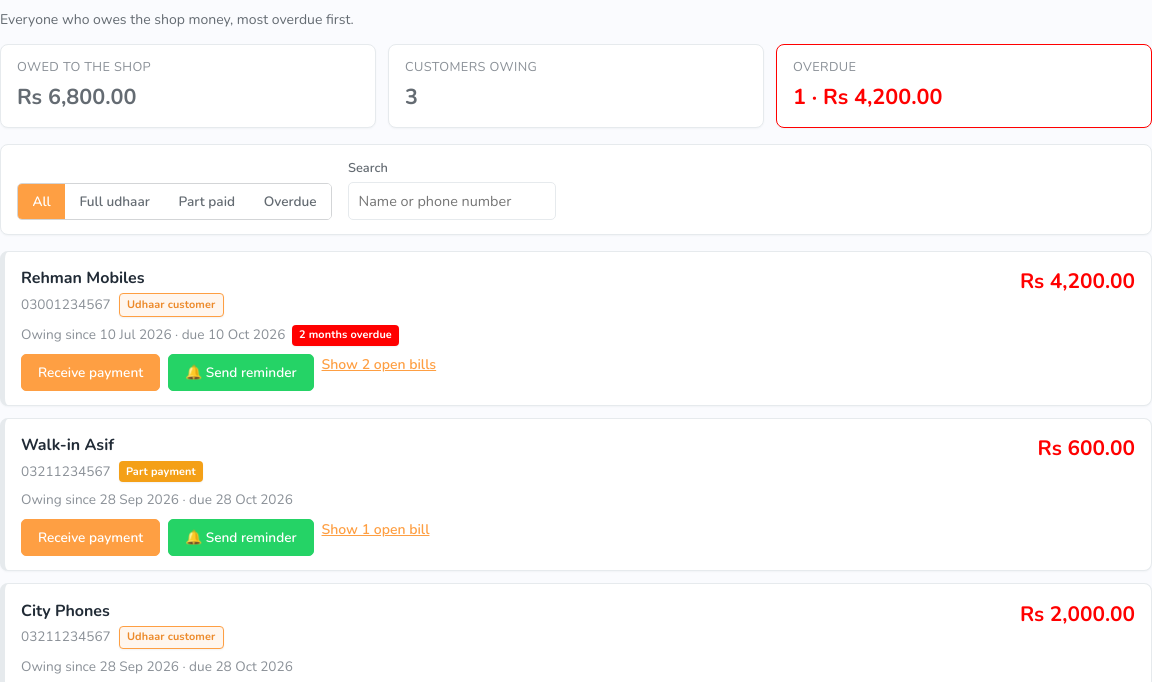
Test: the recovery page › filters to Full udhaar
Expected: the element with test id "recovery-7" is shown, [0,251,1151,406]
Click the button "Full udhaar".
click(115, 201)  # box [65,184,164,218]
(page scrolled)
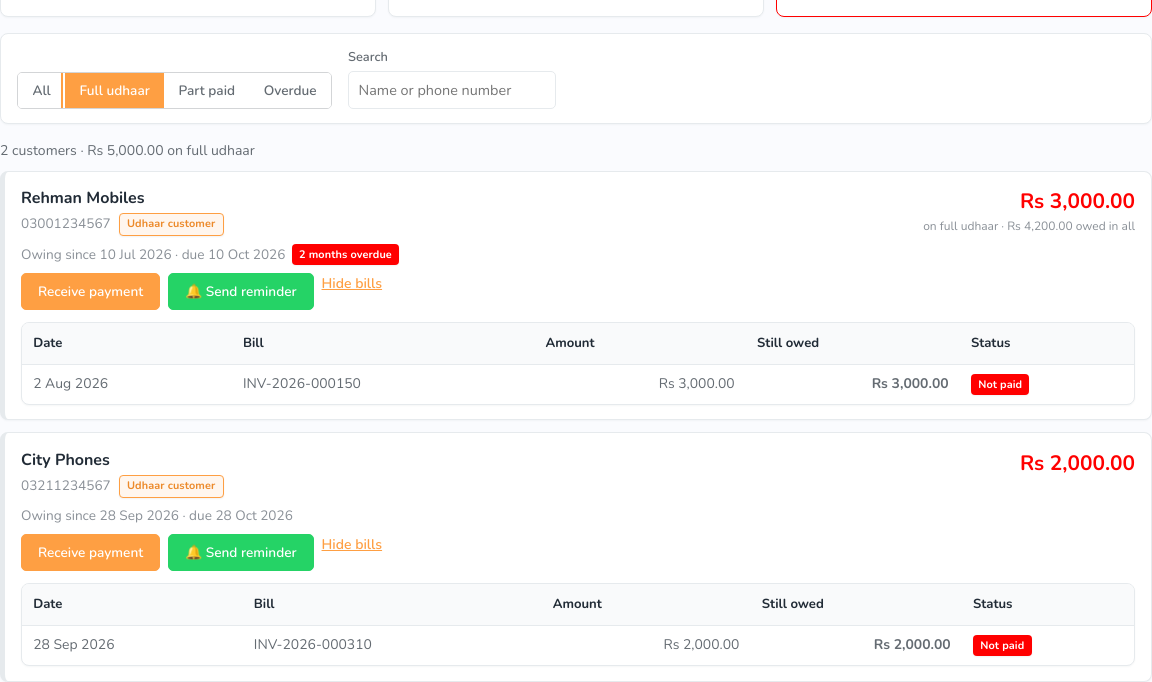
Result: the element with test id "recovery-7" is shown at [0,170,1151,420]
Result: the element with test id "recovery-9" is gone
